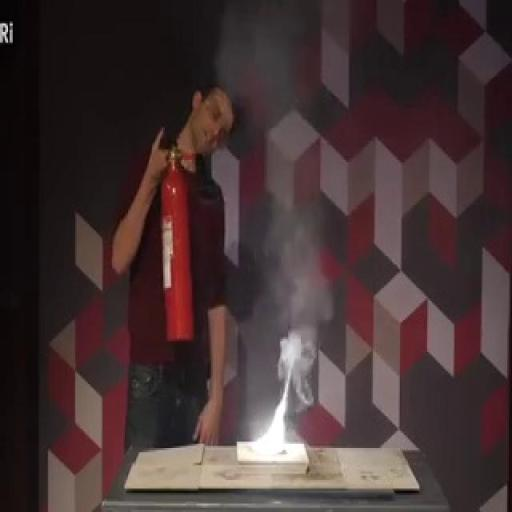smoke: (244, 355, 311, 462)
